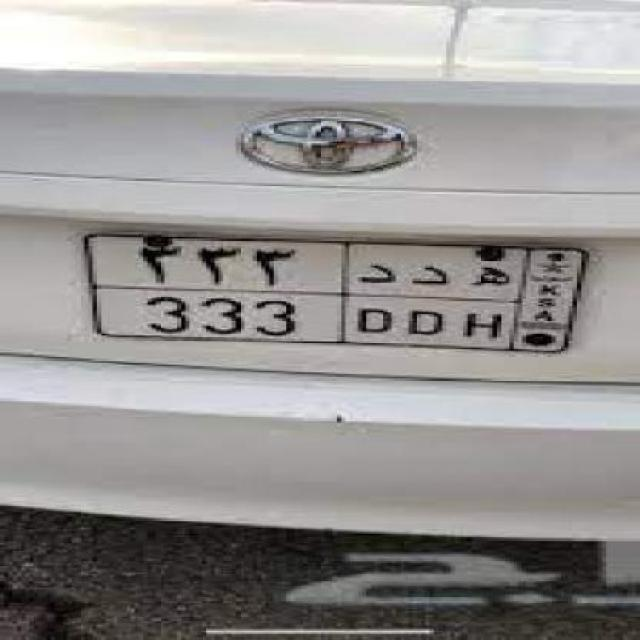license_plate: (76, 229, 598, 357)
